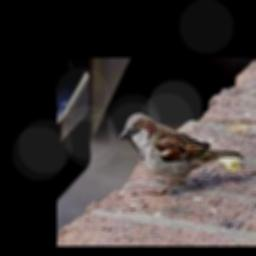Sparrow: (119, 112, 244, 193)
